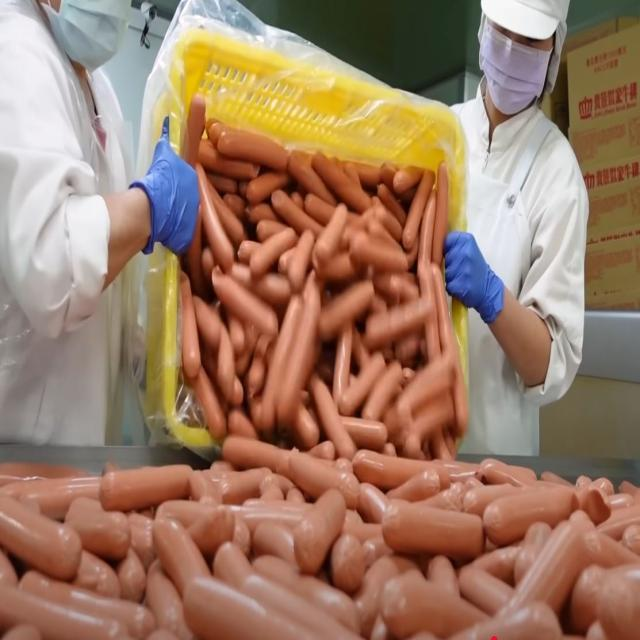gloved_hand: (129, 111, 206, 255), (438, 221, 504, 336)
